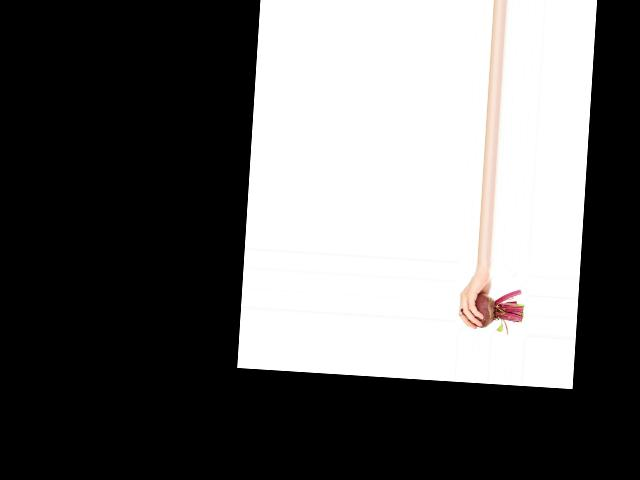beet: (458, 286, 524, 335)
